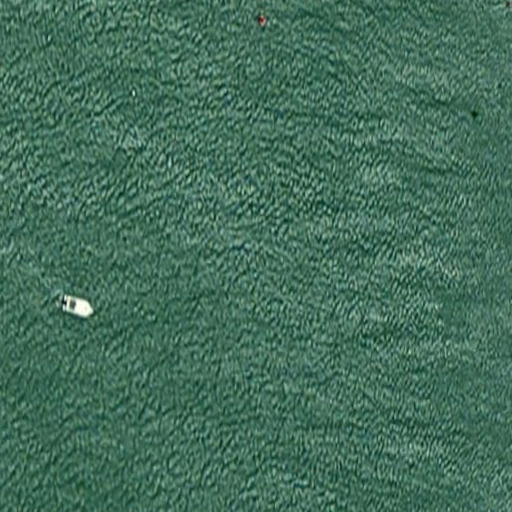ship: (59, 289, 97, 325)
